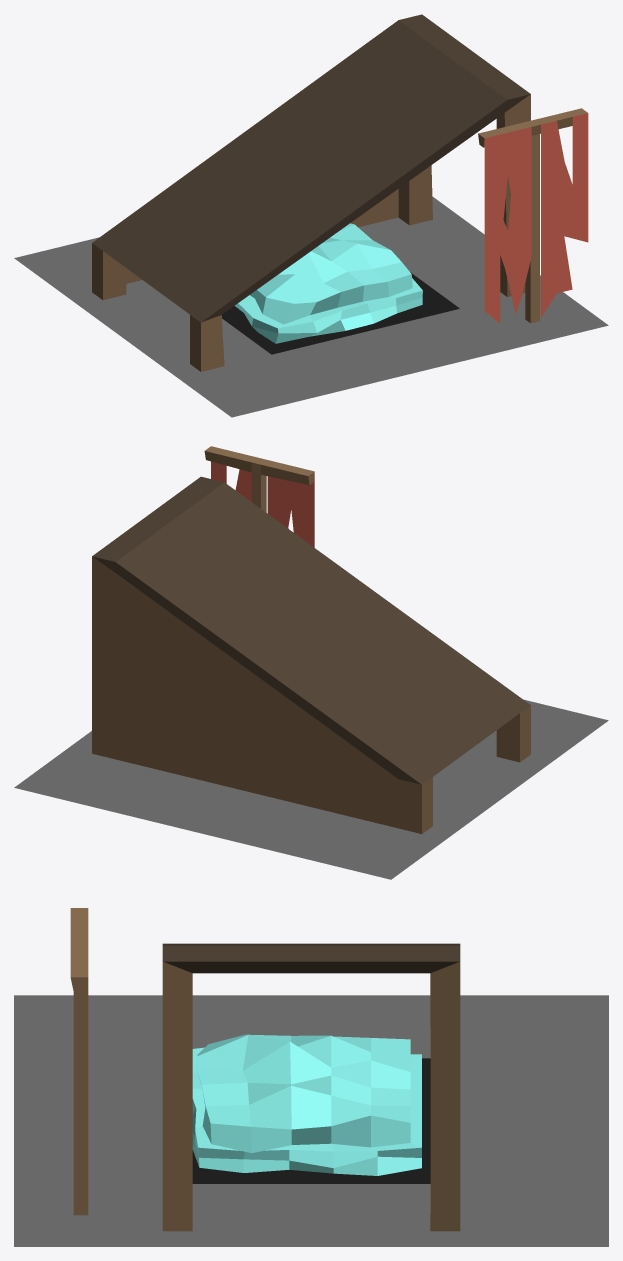
Rendered from FBX - SupplyStash(Aswang).fbx.
3 views of the same model, one above another, from view 1: azimuth 30°, elevation 25°; view 2: azimuth 150°, elevation 25°; view 3: azimuth 270°, elevation 25° (orthographic). The views are drawn at different scales.
Parts seen in each view (by area): view 1: Supply Stash, Banner, Crystals, Cube; view 2: Supply Stash, Banner, Cube; view 3: Supply Stash, Crystals, Cube.
Part boxes in pixels (x1,y1,x2,y2): Supply Stash: (14,14,608,417); Banner: (484,113,588,323); Crystals: (235,223,422,343); Cube: (478,108,587,323); Supply Stash: (14,476,608,879); Banner: (211,461,314,547); Cube: (204,446,314,512); Supply Stash: (14,943,608,1246); Crystals: (192,1034,421,1175); Cube: (70,908,88,1215).
Size of the model in its own units: 400 by 205 by 400.
